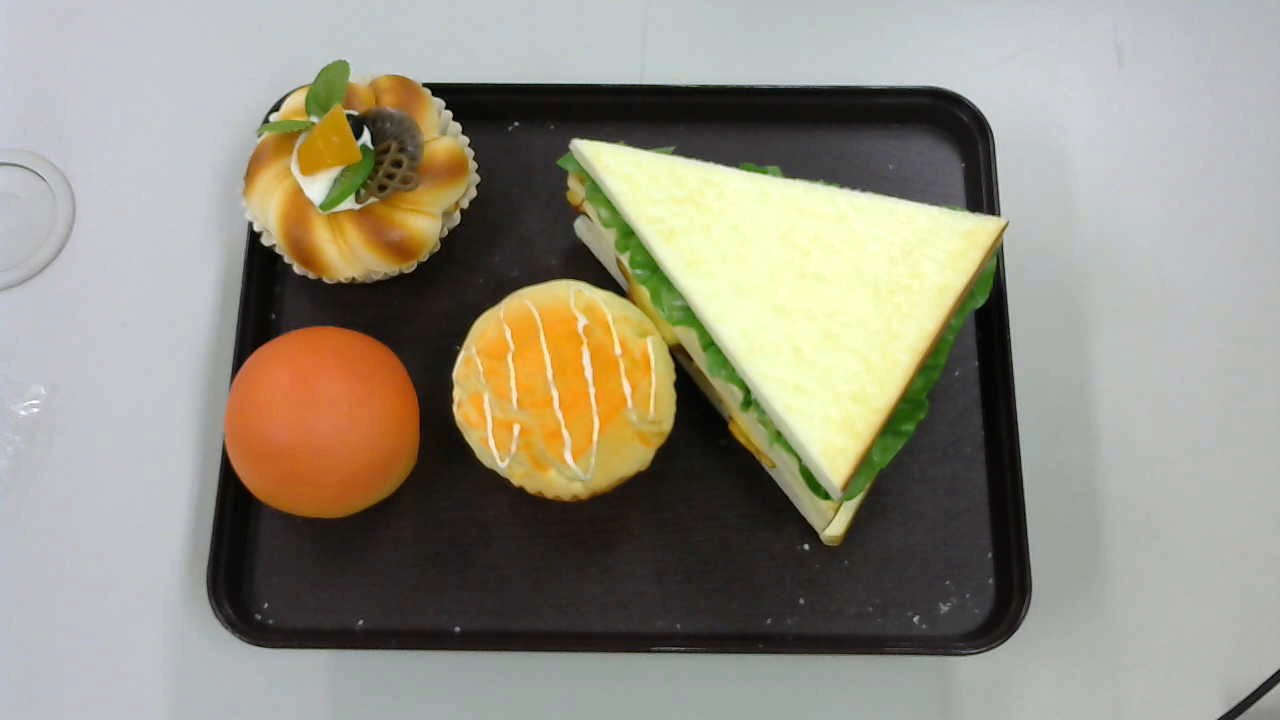bun: (225, 325, 419, 519)
cupcake: (451, 280, 677, 500)
fruit tart: (239, 58, 480, 282)
sandwich: (556, 133, 1012, 548)
